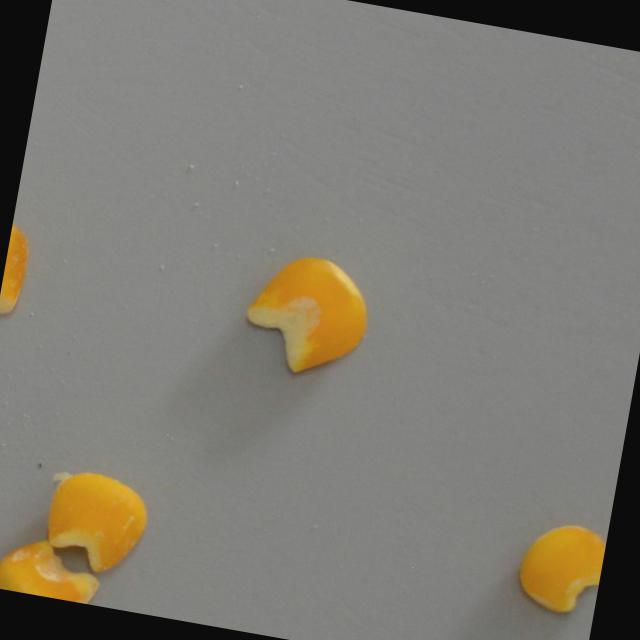no_canjicado: (233, 244, 379, 387), (506, 510, 609, 622)
no_desgerminado: (0, 214, 40, 334)
pelicula: (34, 463, 155, 581), (0, 530, 107, 606)
